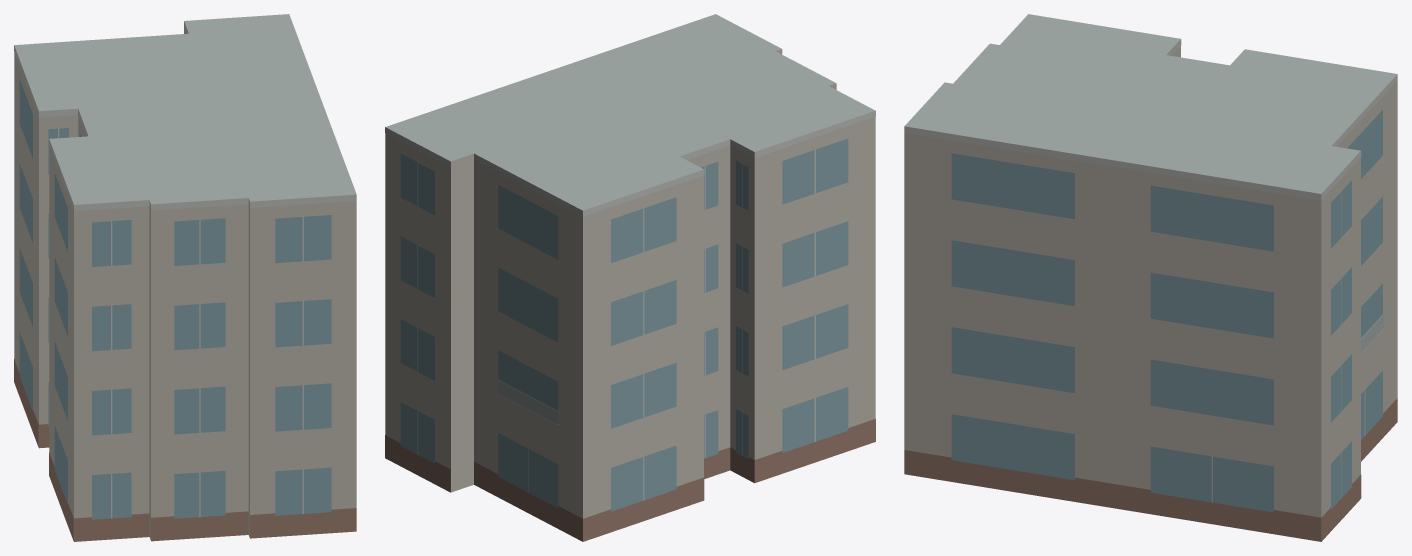
Rendered from survey-upis-33007603.glb.
3 views of the same model, side by side, from view 1: azimuth 30°, elevation 25°; view 2: azimuth 150°, elevation 25°; view 3: azimuth 270°, elevation 25° (orthographic). The views are drawn at different scales.
Parts seen in each view (by area): view 1: survey-upis-33007603.tmp; view 2: survey-upis-33007603.tmp; view 3: survey-upis-33007603.tmp.
Part boxes in pixels (x1,y1,x2,y2): survey-upis-33007603.tmp: (14,14,356,541); survey-upis-33007603.tmp: (385,14,875,541); survey-upis-33007603.tmp: (904,14,1397,541).
Bounding box in the file's own units: 14.66 × 13.2 × 16.97.
